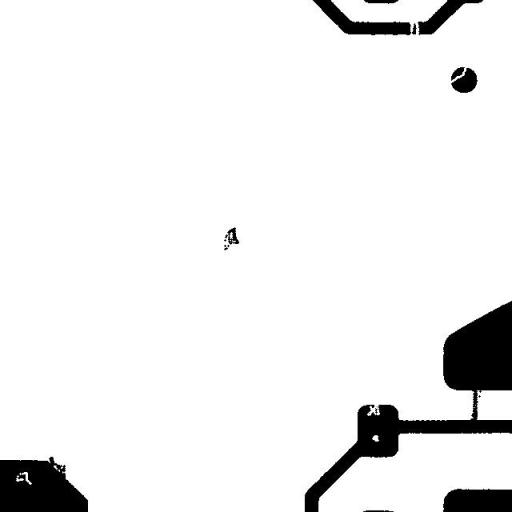copper: (216, 219, 246, 258)
mousebite: (359, 394, 388, 424)
open: (442, 53, 476, 90), (402, 9, 426, 45)
pin-hole: (8, 464, 39, 492), (364, 427, 386, 449)
short: (462, 374, 490, 436)
spur: (41, 449, 73, 486)
